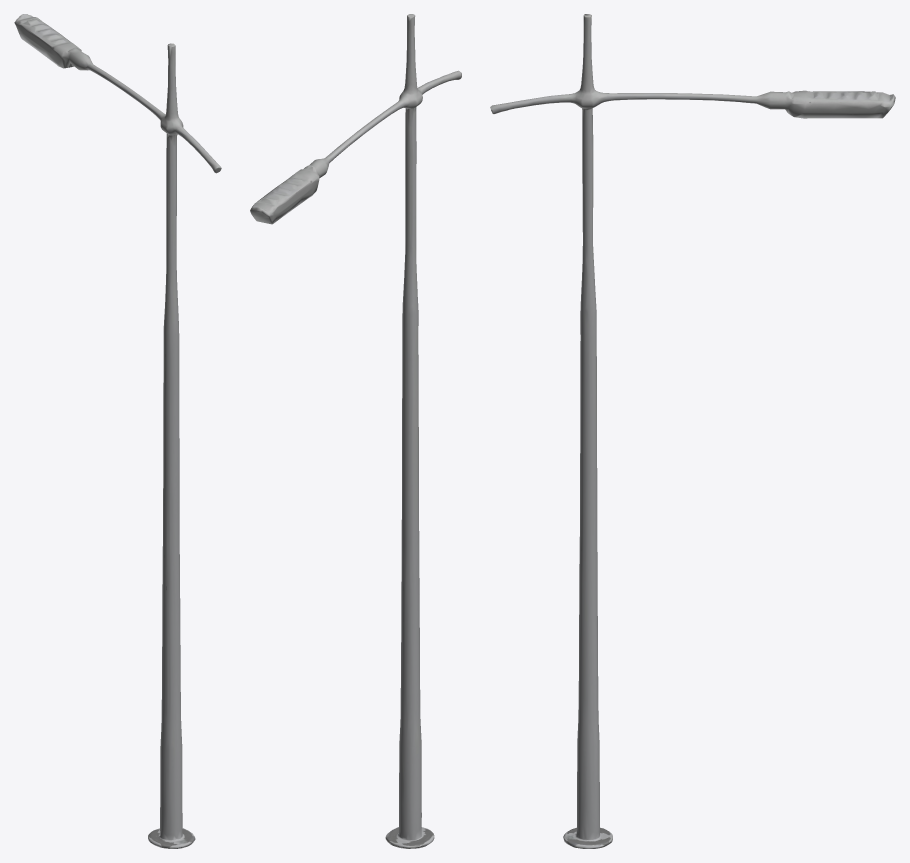
The model's file is posteDeLuz.fbx.
3 views of the same model, side by side, from view 1: azimuth 30°, elevation 25°; view 2: azimuth 150°, elevation 25°; view 3: azimuth 270°, elevation 25° (orthographic). The views are drawn at different scales.
Parts seen in each view (by area): view 1: tripo_node_026c6020; view 2: tripo_node_026c6020; view 3: tripo_node_026c6020.
Boxes of the visible parts, x1=… form: tripo_node_026c6020: x1=14, y1=14, x2=221, y2=848; tripo_node_026c6020: x1=250, y1=14, x2=461, y2=848; tripo_node_026c6020: x1=490, y1=14, x2=895, y2=848.
Size of the model in its own units: 0.0521 by 1 by 0.4458.
1 material, 1 textured.
